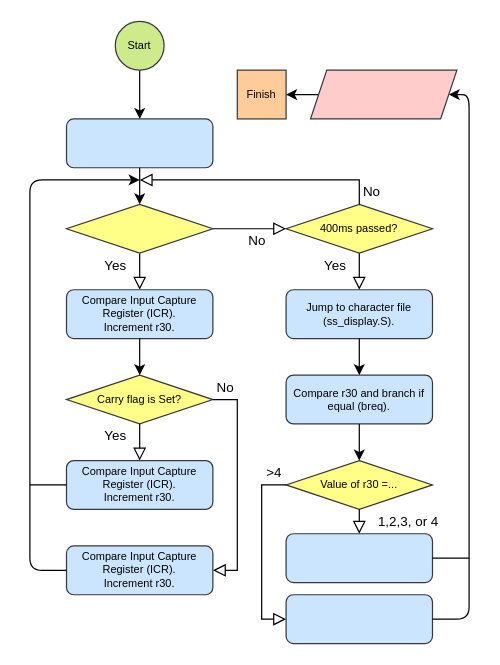
This 500x665 diagram has some shape labels left out. The centre of each missing label's shape, as x and y in pixels:
Button Pressed?: the point at 139,228
Compare r31 to Bit Sequence and load character into r28.: the point at 358,558
Load error character into r28: the point at 358,619
Output r28 to Seven-Segement display.: the point at 383,94
Setup Timers & Interrupts routine: the point at 139,143
